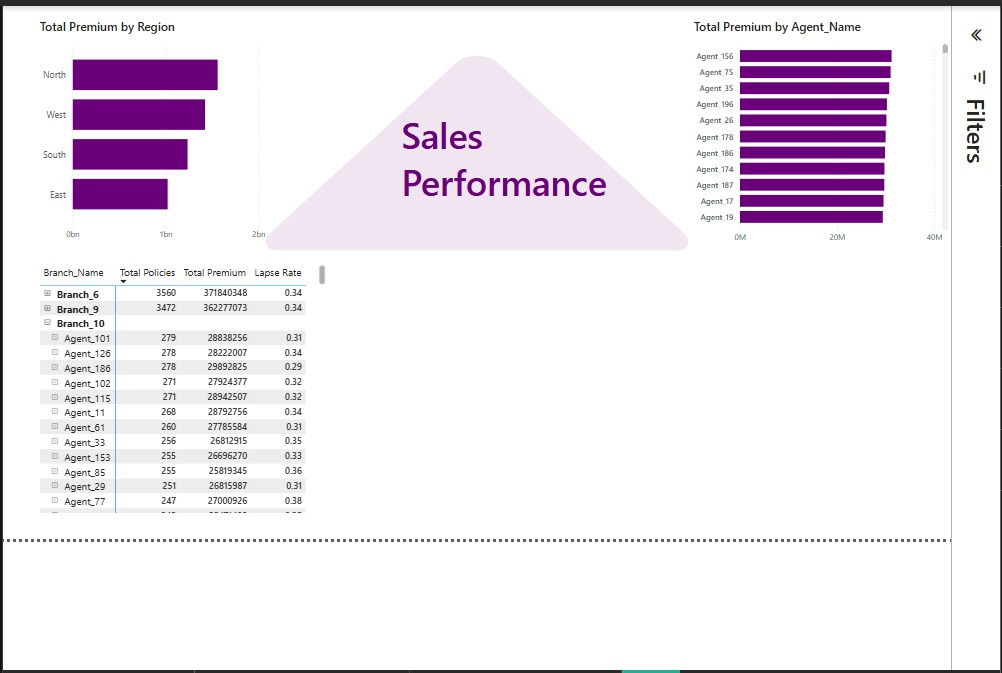

The dashboard page shown, as its layout file describes it:
{"tool":"powerbi","page":{"name":"Sales performance","canvas":[1280,720],"ordinal":1},"visuals":[{"type":"barChart","fields":{"Y":["Fact_Sales.Total Premium"],"Category":["Dim_Branch.Region"]},"box":[45,16.7,315,308.3],"z":0},{"type":"pivotTable","fields":{"Rows":["Dim_Branch.Branch_Name","Dim_Agent.Agent_Name","Dim_Branch.Region"],"Values":["Fact_Sales.Total Policies","Fact_Sales.Total Premium","Fact_Sales.Lapse Rate"]},"box":[44.7,344.5,395.9,344.5],"z":1000},{"type":"barChart","fields":{"Category":["Dim_Agent.Agent_Name"],"Y":["Fact_Sales.Total Premium"]},"box":[926.7,16.7,353.3,313.3],"z":2000},{"type":"shape","box":[333.3,50,611.7,280],"z":3000},{"type":"textbox","box":[533.3,136.7,353.3,343.3],"z":5000}]}

Visuals, with their boxes on the page's 1280x720 design canvas (x1, y1, x2, y2). These are canvas units, not pixel positions in the 1002x673 screenshot, which may show the page scaled, cropped or inside an application window:
barChart - Fact_Sales.Total Premium x Dim_Branch.Region: BBox(45, 17, 360, 325)
pivotTable - Dim_Branch.Branch_Name x Dim_Agent.Agent_Name: BBox(45, 344, 441, 689)
barChart - Dim_Agent.Agent_Name x Fact_Sales.Total Premium: BBox(927, 17, 1280, 330)
shape: BBox(333, 50, 945, 330)
textbox: BBox(533, 137, 887, 480)
